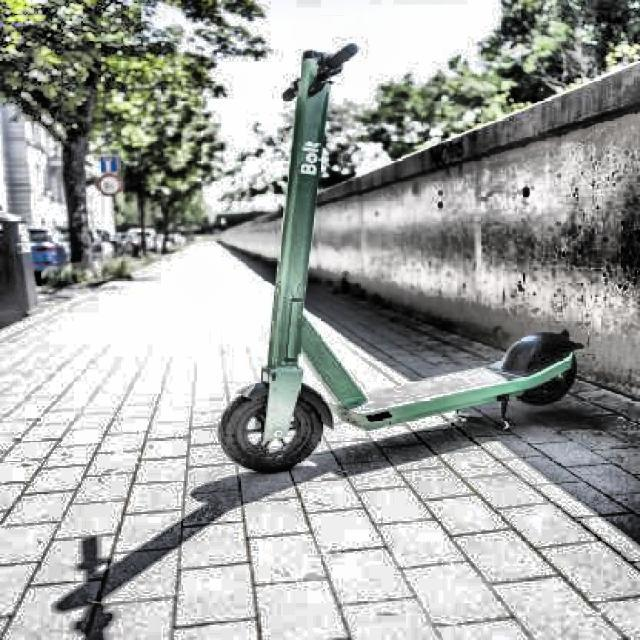bike: (217, 42, 586, 474)
car: (27, 228, 67, 286)
